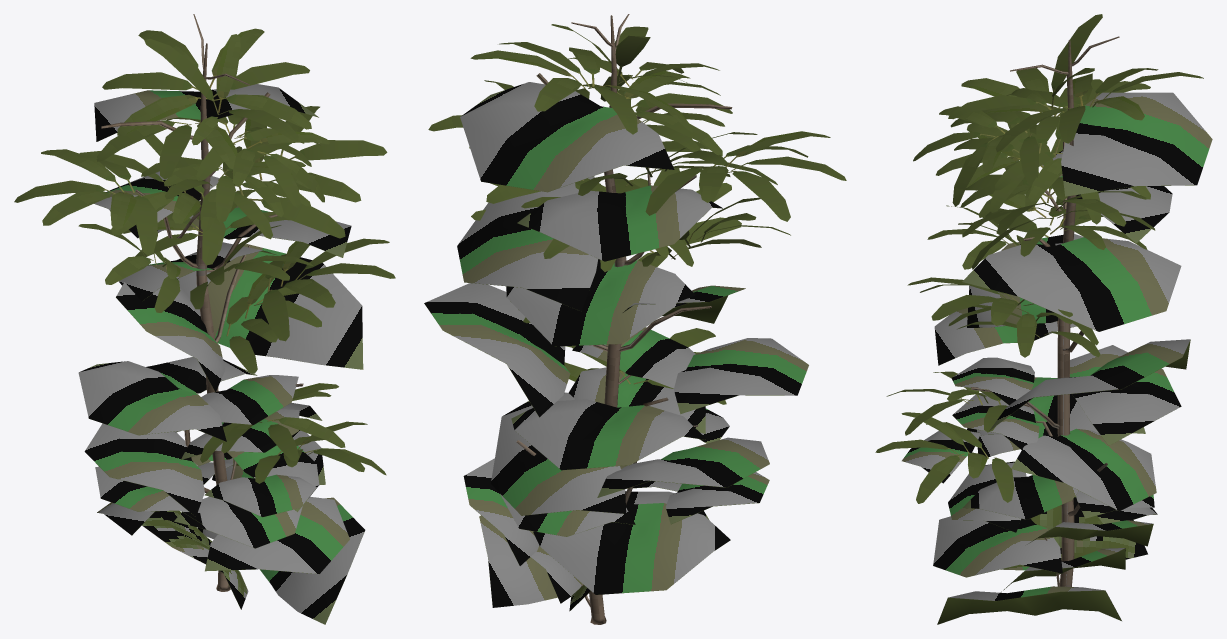
The model's file is test_plants_un_plant03.gltf.
3 views of the same model, side by side, from view 1: azimuth 30°, elevation 25°; view 2: azimuth 150°, elevation 25°; view 3: azimuth 270°, elevation 25° (orthographic). The views are drawn at different scales.
Parts seen in each view (by area): view 1: um_test_plants_un_plant03_model_test_plants_un_plant03_model; view 2: um_test_plants_un_plant03_model_test_plants_un_plant03_model; view 3: um_test_plants_un_plant03_model_test_plants_un_plant03_model.
Boxes of the visible parts, x1=… form: um_test_plants_un_plant03_model_test_plants_un_plant03_model: x1=14, y1=14, x2=395, y2=624; um_test_plants_un_plant03_model_test_plants_un_plant03_model: x1=424, y1=14, x2=846, y2=624; um_test_plants_un_plant03_model_test_plants_un_plant03_model: x1=875, y1=14, x2=1212, y2=624.
Size of the model in its own units: 1.24 by 1.98 by 1.07.
1 material, 1 textured.
